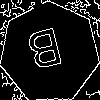B: (25, 27, 68, 80)
